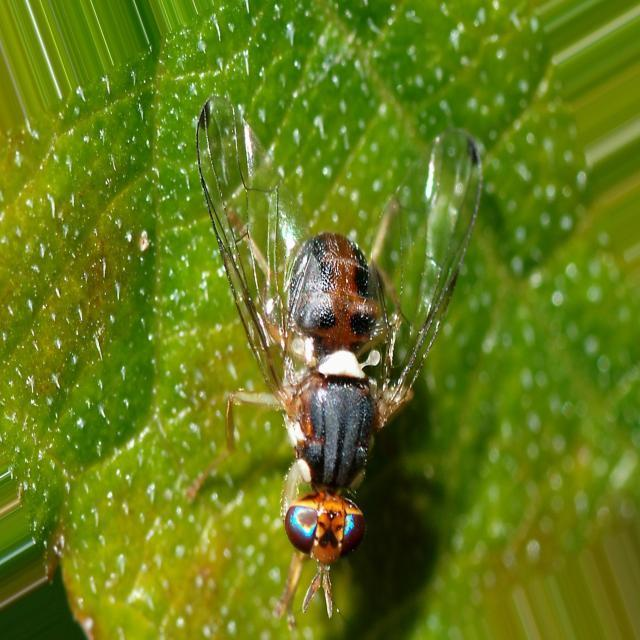Anthracnose: (196, 98, 482, 624)
